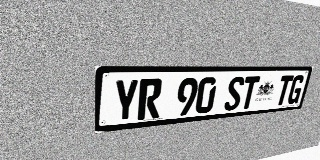0: (194, 77, 218, 114)
9: (175, 78, 199, 116)
G: (286, 75, 306, 105)
R: (137, 78, 163, 120)
S: (223, 76, 245, 111)
T: (239, 76, 260, 110), (274, 75, 294, 106)
Y: (113, 79, 139, 123)
